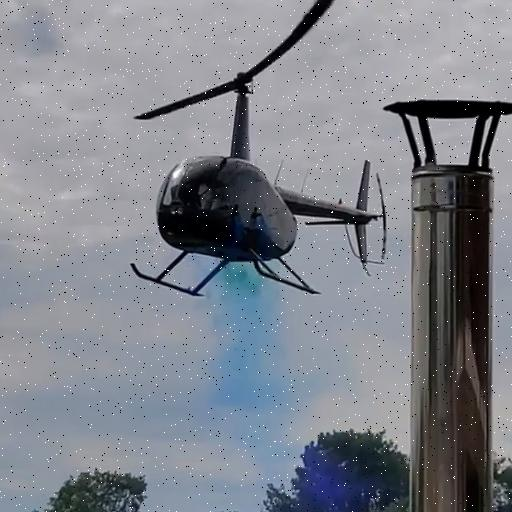helicopter: (114, 1, 398, 316)
